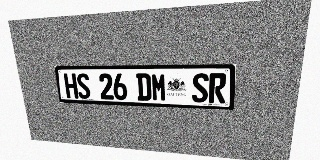2: (98, 73, 114, 100)
6: (112, 73, 128, 100)
D: (136, 73, 152, 101)
H: (63, 73, 79, 98)
M: (151, 73, 167, 101)
R: (209, 73, 227, 103)
S: (192, 73, 209, 103), (76, 73, 91, 99)
